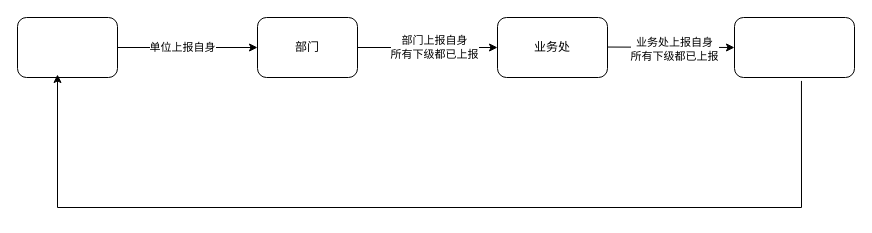
Some shapes in this 872 by 233 pixel diagram are drawn without their labels. Each missing label, with the centre of its shape:
"单位" belongs at [67,47].
"国库" belongs at [794,47].
